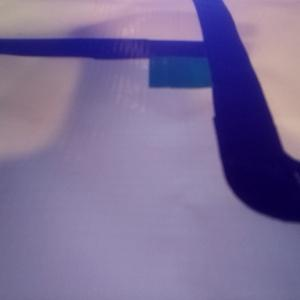bottom_left: (149, 41, 242, 87)
